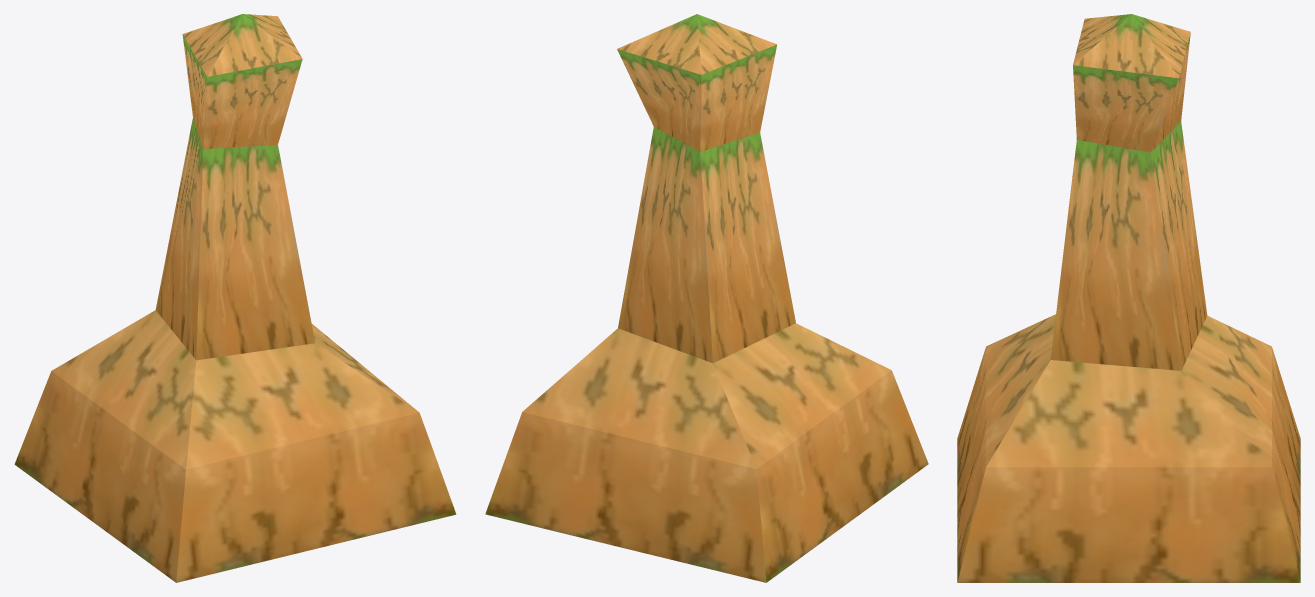
File: pillar.glb
The picture shows the model from 3 angles, left to right: view 1: azimuth 30°, elevation 25°; view 2: azimuth 150°, elevation 25°; view 3: azimuth 270°, elevation 25°; orthographic projection. The views are drawn at different scales.
Visible parts, largest first — view 1: pillar; view 2: pillar; view 3: pillar.
Boxes of the visible parts, left/top/right/bottom form: pillar: left=14, top=14, right=456, bottom=582; pillar: left=485, top=14, right=928, bottom=582; pillar: left=957, top=14, right=1300, bottom=582.
Bounding box in the file's own units: 1.8 × 2.9 × 1.8.
Materials: 1 (1 with a texture image).
